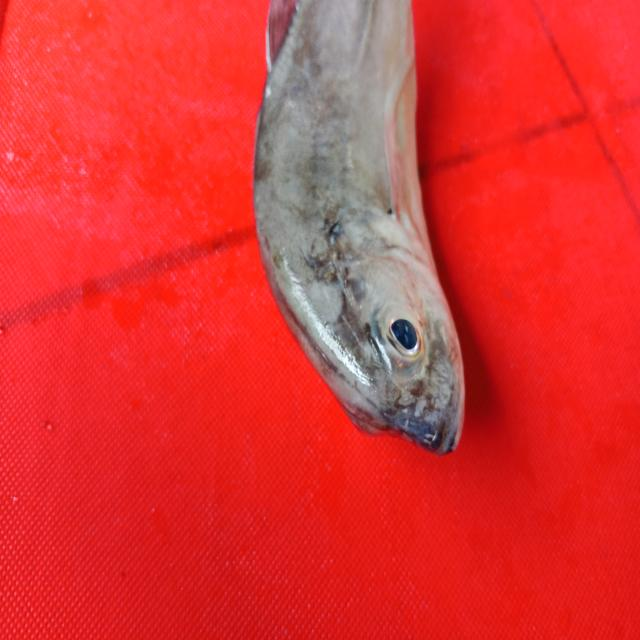ikan: (252, 0, 468, 456)
